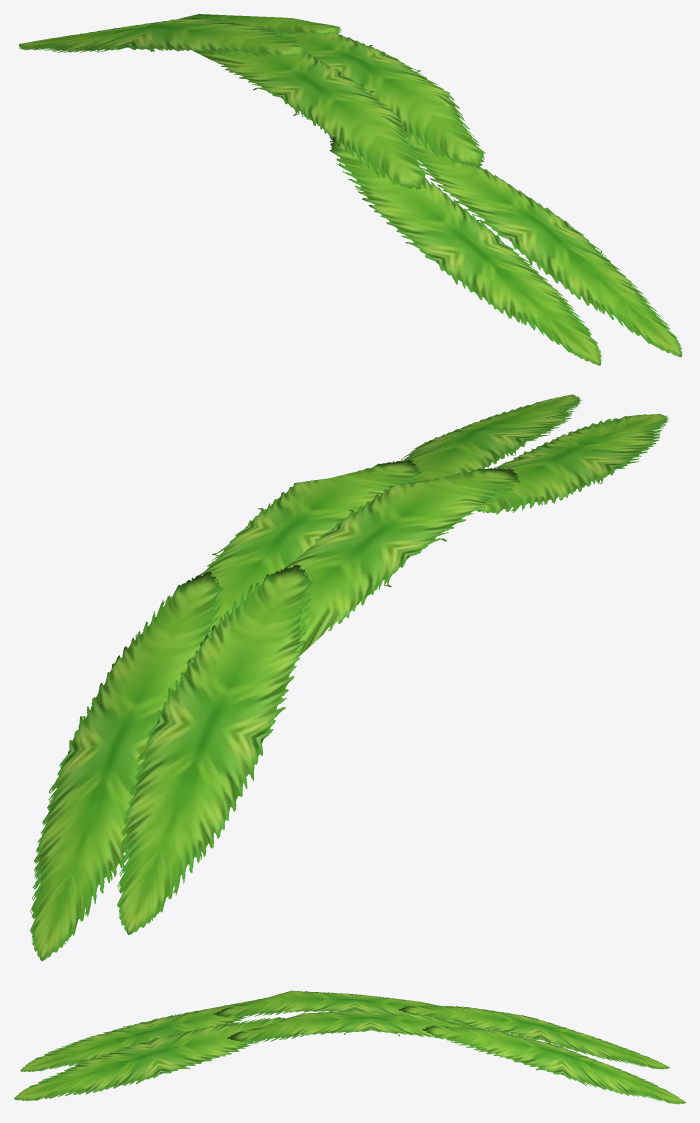
File: PalmLeefBridgeShape.dae
3 views of the same model, one above another, from view 1: azimuth 30°, elevation 25°; view 2: azimuth 150°, elevation 25°; view 3: azimuth 270°, elevation 25° (orthographic). The views are drawn at different scales.
Parts seen in each view (by area): view 1: PalmLeefBridge; view 2: PalmLeefBridge; view 3: PalmLeefBridge.
Part boxes in pixels (<box>): PalmLeefBridge: <box>19,14,682,365</box>; PalmLeefBridge: <box>30,394,669,961</box>; PalmLeefBridge: <box>14,990,685,1104</box>.
Bounding box in the file's own units: 10.93 × 8.26 × 49.82.
